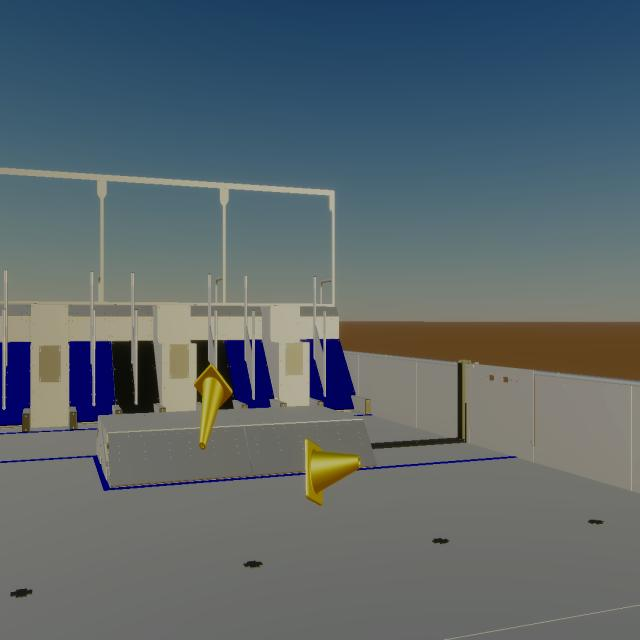frc_cone: (304, 438, 360, 505), (194, 363, 233, 450)
